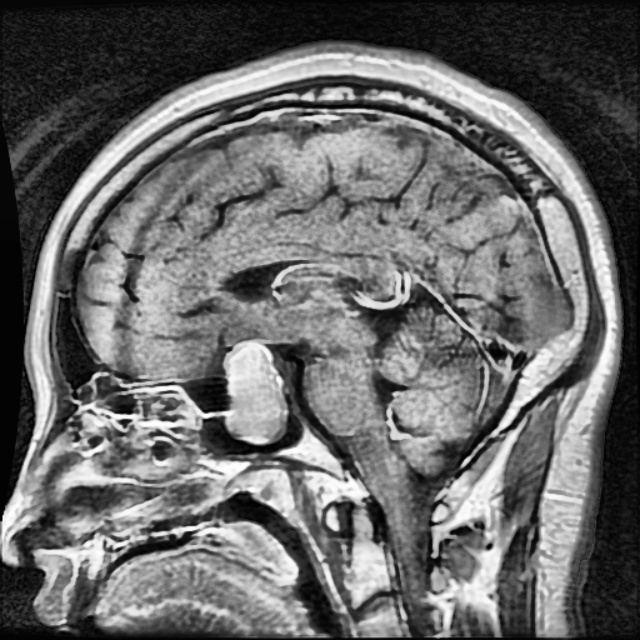Pituitary: (228, 342, 285, 442)
